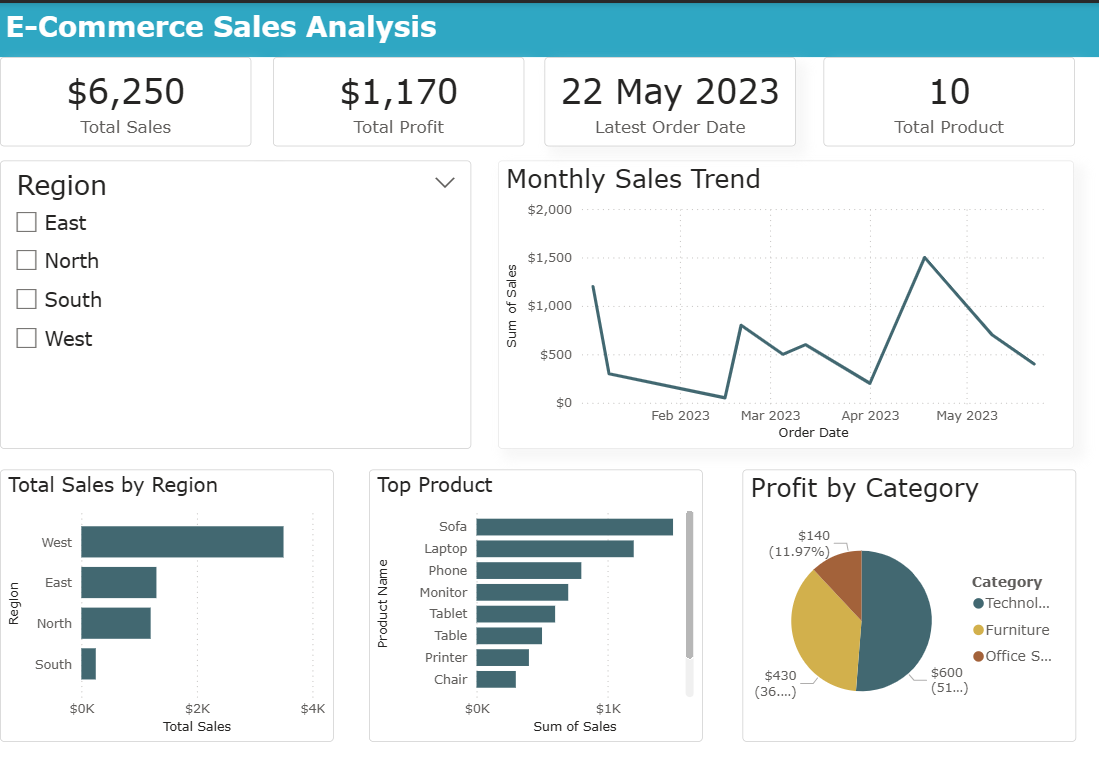

The page's visual inventory and layout, read from the dashboard file:
{"tool":"powerbi","page":{"name":"Page 1","canvas":[1280,720],"ordinal":0},"visuals":[{"type":"lineChart","title":"Monthly Sales Trend","fields":{"Y":["Sum(sales.Sales)"],"Category":["sales.Order Date"]},"box":[476,150,550,275],"z":0},{"type":"pieChart","title":"Profit by Category","fields":{"Category":["sales.Category"],"Y":["Sum(sales.Profit)"]},"box":[708.3,445,318.3,260],"z":3000},{"type":"slicer","title":"Region","fields":{"Values":["sales.Region"]},"box":[0,150,450,275],"z":5000},{"type":"actionButton","box":[0,0,100,40],"z":6000},{"type":"shape","box":[0,0,1280,51.7],"z":7000},{"type":"textbox","box":[0,0,601.7,51.7],"z":8000},{"type":"card","fields":{"Values":["Sum(sales.Sales)"]},"box":[0,51.7,240,85],"z":8001},{"type":"card","fields":{"Values":["Sum(sales.Profit)"]},"box":[260,52,240,84],"z":8002},{"type":"card","fields":{"Values":["Max(sales.Order Date)"]},"box":[520,52,240,84],"z":8003},{"type":"card","fields":{"Values":["CountNonNull(sales.Category)"]},"box":[786,52,240,84],"z":8004},{"type":"clusteredBarChart","title":"Top Product","fields":{"Y":["Sum(sales.Sales)"],"Category":["sales.Product Name"]},"box":[351.7,445,318.3,260],"z":8005},{"type":"clusteredBarChart","fields":{"Category":["sales.Region"],"Y":["Sum(sales.Sales)"]},"box":[0,445,318.3,260],"z":8006}]}

Visuals, with their boxes in screenshot pixels (x1, y1, x2, y2):
"Monthly Sales Trend" lineChart: x1=466, y1=177, x2=915, y2=401
"Profit by Category" pieChart: x1=656, y1=418, x2=916, y2=630
"Region" slicer: x1=77, y1=177, x2=445, y2=401
actionButton: x1=77, y1=54, x2=159, y2=87
shape: x1=77, y1=54, x2=1098, y2=97
textbox: x1=77, y1=54, x2=569, y2=97
card - Sum(sales.Sales): x1=77, y1=97, x2=273, y2=166
card - Sum(sales.Profit): x1=290, y1=97, x2=486, y2=165
card - Max(sales.Order Date): x1=502, y1=97, x2=698, y2=165
card - CountNonNull(sales.Category): x1=719, y1=97, x2=915, y2=165
"Top Product" clusteredBarChart: x1=365, y1=418, x2=624, y2=630
clusteredBarChart - sales.Region x Sum(sales.Sales): x1=77, y1=418, x2=337, y2=630
